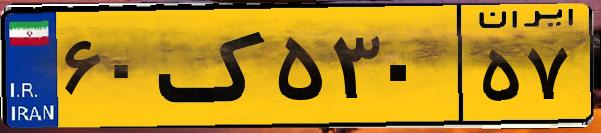0: (385, 28, 445, 110), (110, 28, 158, 98)
3: (330, 28, 385, 110)
5: (270, 28, 330, 110), (475, 38, 525, 113)
6: (57, 26, 110, 100)
7: (525, 38, 570, 115)
ک: (158, 12, 270, 120)
